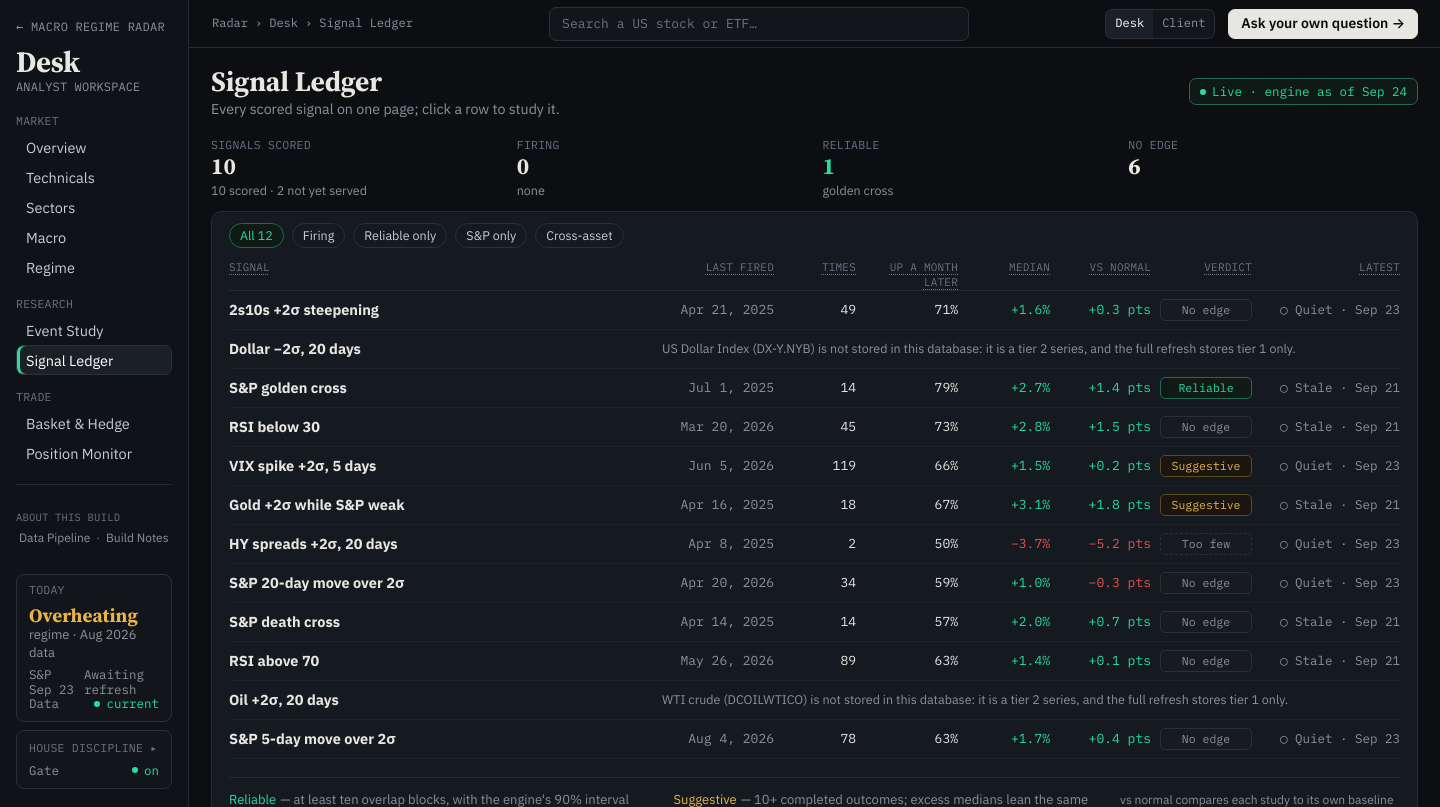
it: Signal Ledger tab › a filter with no match says so; nothing firing leaves the count plain
Check: the table is shown, box [229,250,1400,759]
Click the button "Firing" at (318, 236), box [292,223,345,248]
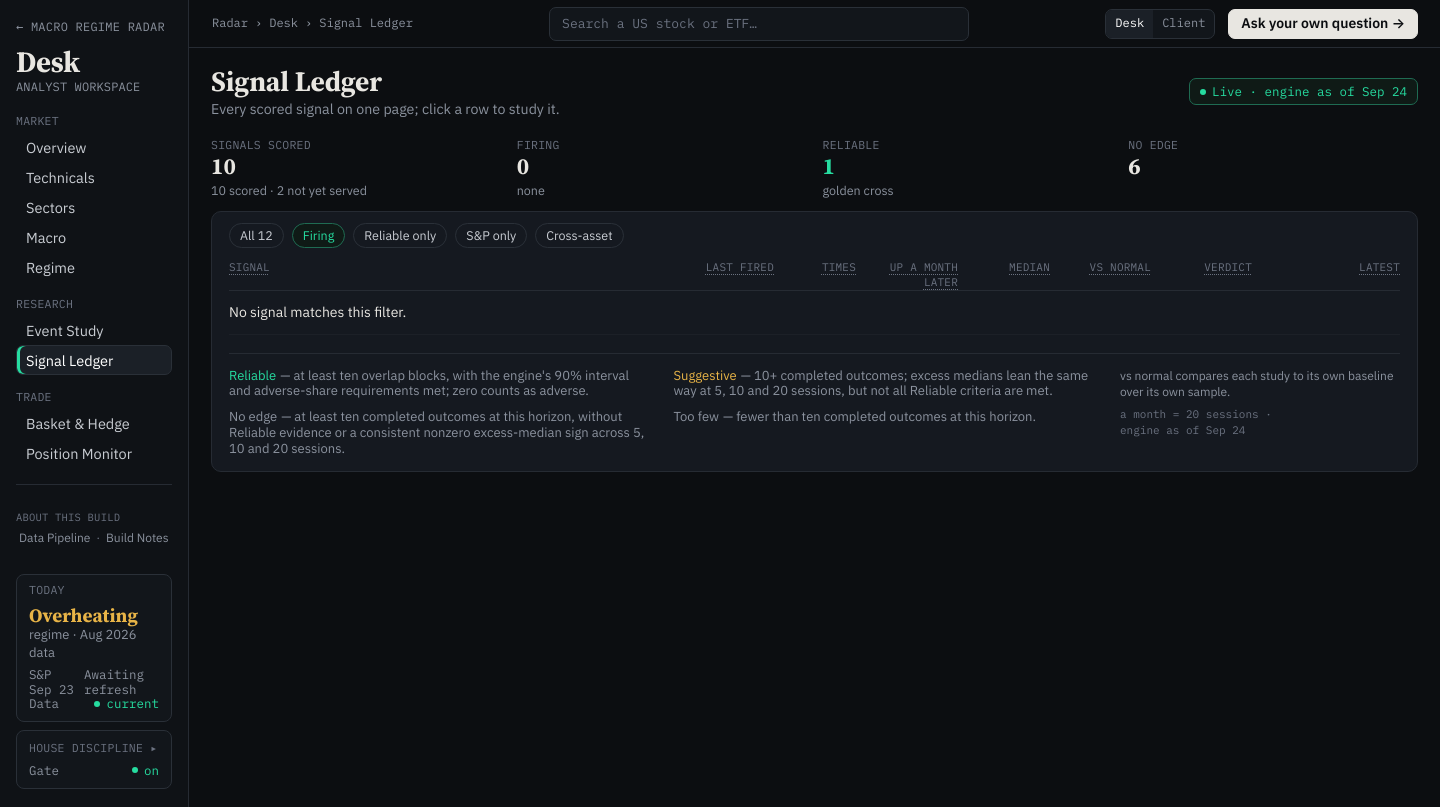
Check: the text "No signal matches this filter." is shown, box [229,290,1400,334]
